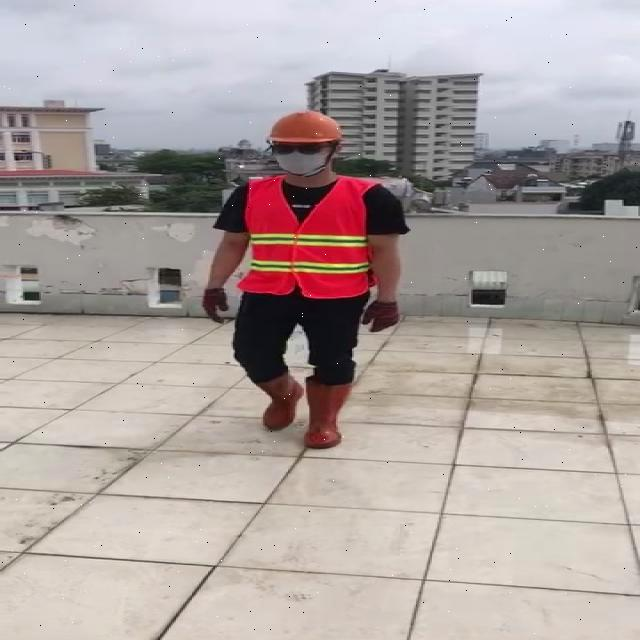Hard_hat: (260, 109, 346, 157)
Person: (198, 110, 423, 467)
Vest: (240, 172, 371, 300)
